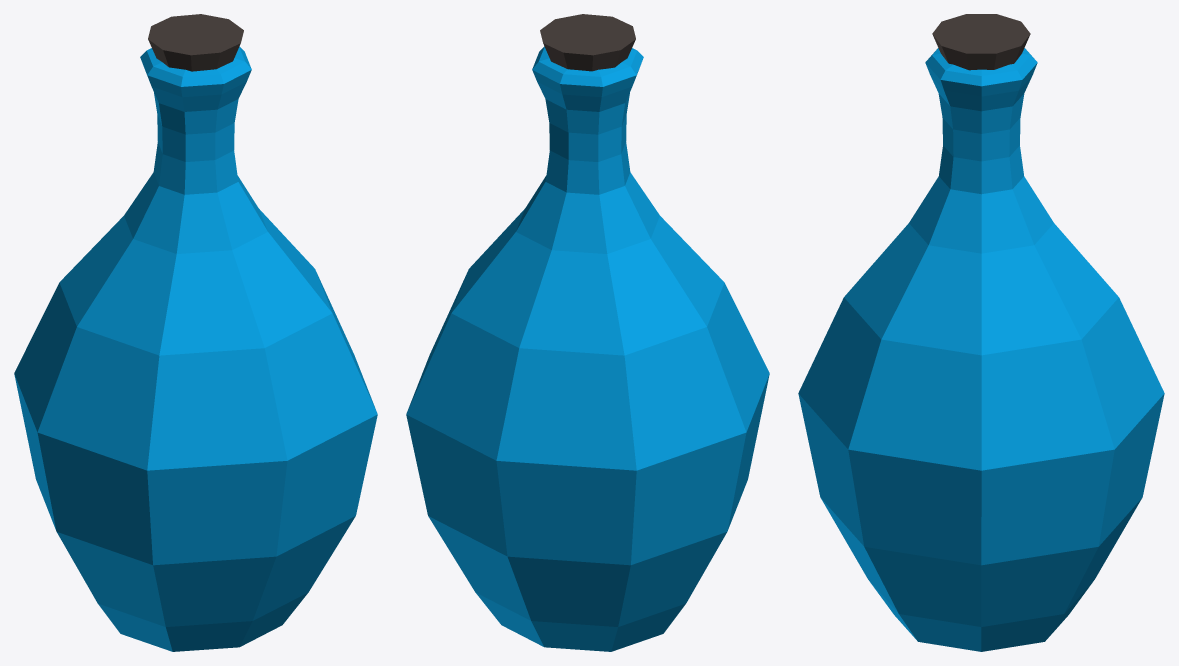
Rendered from Mana_Potion_003.fbx.
3 views of the same model, side by side, from view 1: azimuth 30°, elevation 25°; view 2: azimuth 150°, elevation 25°; view 3: azimuth 270°, elevation 25° (orthographic).
Visible parts, largest first — view 1: Mana Potion.003; view 2: Mana Potion.003; view 3: Mana Potion.003.
Part boxes in pixels (x1=…): Mana Potion.003: x1=14, y1=14, x2=377, y2=651; Mana Potion.003: x1=406, y1=14, x2=769, y2=651; Mana Potion.003: x1=798, y1=14, x2=1164, y2=651.
Bounding box in the file's own units: 27.65 × 48.99 × 27.65.
